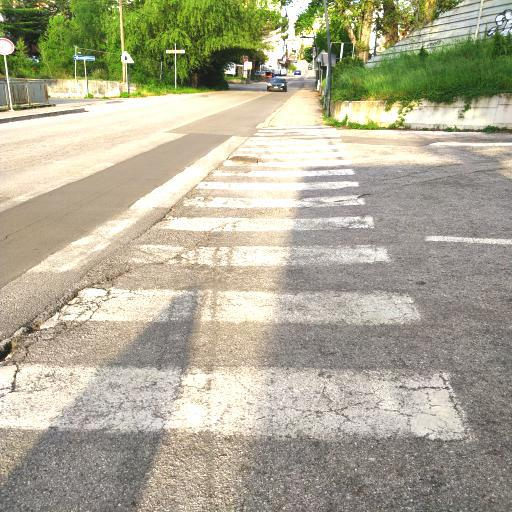crosswalk: (99, 210, 401, 272), (206, 158, 360, 182)
